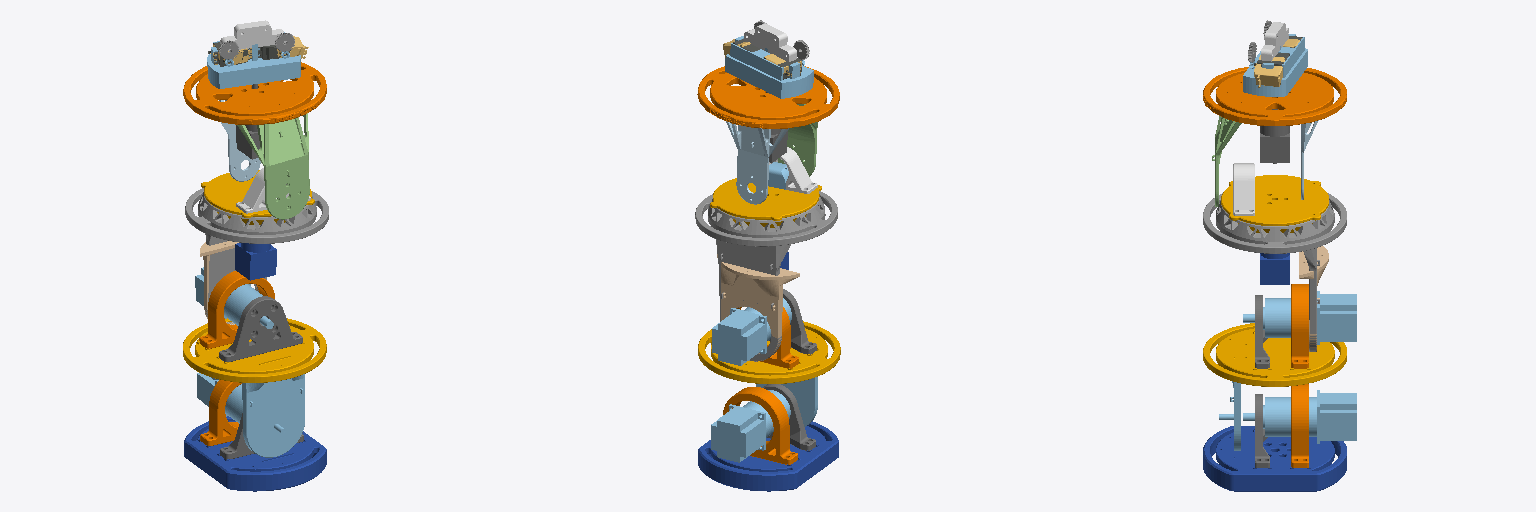
--- What the picture shows (computed from the rendered views, not written in the file) ---
Views: 3 orthographic renders of the robot side by side, from view 1: azimuth 30°, elevation 25°; view 2: azimuth 150°, elevation 25°; view 3: azimuth 270°, elevation 25°.
Robot: robot — 8 links, 7 joints (6 revolute, 1 fixed); root link ob1_arm_fixed_base_link; default pose: every joint at zero.
Links seen in each view (by area): view 1: ob1_arm_shoulder_link, ob1_arm_forearm_link, ob1_arm_base_link, ob1_arm_arm_link, ob1_arm_gripper_base_link, ob1_arm_elbow_link; view 2: ob1_arm_shoulder_link, ob1_arm_base_link, ob1_arm_forearm_link, ob1_arm_arm_link, ob1_arm_gripper_base_link, ob1_arm_elbow_link; view 3: ob1_arm_base_link, ob1_arm_shoulder_link, ob1_arm_forearm_link, ob1_arm_arm_link, ob1_arm_elbow_link, ob1_arm_gripper_base_link.
Boxes of the visible links, x1,y1,x2,y2 form: ob1_arm_shoulder_link: [183, 241, 326, 457]; ob1_arm_forearm_link: [183, 62, 326, 219]; ob1_arm_base_link: [184, 373, 326, 491]; ob1_arm_arm_link: [185, 188, 328, 324]; ob1_arm_gripper_base_link: [207, 20, 308, 88]; ob1_arm_elbow_link: [201, 168, 314, 224]; ob1_arm_shoulder_link: [698, 254, 840, 426]; ob1_arm_base_link: [698, 384, 838, 491]; ob1_arm_forearm_link: [697, 66, 839, 204]; ob1_arm_arm_link: [695, 191, 837, 361]; ob1_arm_gripper_base_link: [723, 20, 813, 98]; ob1_arm_elbow_link: [710, 147, 821, 227]; ob1_arm_base_link: [1203, 384, 1356, 491]; ob1_arm_shoulder_link: [1203, 246, 1356, 450]; ob1_arm_forearm_link: [1203, 67, 1346, 206]; ob1_arm_arm_link: [1203, 193, 1346, 351]; ob1_arm_elbow_link: [1221, 163, 1328, 232]; ob1_arm_gripper_base_link: [1243, 20, 1307, 96].
Size in the robot's own frame: 0.2045 by 0.2135 by 0.6709 metres.
Meshes: 27 distinct files referenced, 31 mesh visuals loaded (26 binary STL); not drawn: 1 (reference not matched to a file when rendering).

The robot description file, URDF, robot "robot":
<?xml version="1.0" ?>
<!-- =================================================================================== -->
<!-- |    This document was autogenerated by xacro from main.xacro                     | -->
<!-- |    EDITING THIS FILE BY HAND IS NOT RECOMMENDED                                 | -->
<!-- =================================================================================== -->
<robot name="robot">
  <link name="ob1_arm_fixed_base_link">
    <inertial>
      <origin rpy="0 0 0" xyz="0 0 0"/>
      <mass value="0"/>
      <inertia ixx="0" ixy="0" ixz="0" iyy="0" iyz="0" izz="0"/>
    </inertial>
  </link>
  <link name="ob1_arm_base_link">
    <visual>
      <origin rpy="-1.5708 1.21431e-16 3.90606e-18" xyz="3.31402e-16 -0.0195 0.06"/>
      <geometry>
        <mesh filename="package://ob1_arm_description/meshes/shoulder_y_motor.stl"/>
      </geometry>
      <material name="shoulder_y_motor_material">
        <color rgba="0.615686 0.811765 0.929412 1.0"/>
      </material>
    </visual>
    <collision>
      <origin rpy="-1.5708 1.21431e-16 3.90606e-18" xyz="3.31402e-16 -0.0195 0.06"/>
      <geometry>
        <mesh filename="package://ob1_arm_description/meshes/shoulder_y_motor.stl"/>
      </geometry>
      <material name="shoulder_y_motor_material">
        <color rgba="0.615686 0.811765 0.929412 1.0"/>
      </material>
    </collision>
    <visual>
      <origin rpy="-1.5708 1.2013e-16 2.92997e-21" xyz="1.33481e-16 -0.0195 0.06"/>
      <geometry>
        <mesh filename="package://ob1_arm_description/meshes/shoulder_plate.stl"/>
      </geometry>
      <material name="shoulder_plate_material">
        <color rgba="0.231373 0.380392 0.705882 1.0"/>
      </material>
    </visual>
    <collision>
      <origin rpy="-1.5708 1.2013e-16 2.92997e-21" xyz="1.33481e-16 -0.0195 0.06"/>
      <geometry>
        <mesh filename="package://ob1_arm_description/meshes/shoulder_plate.stl"/>
      </geometry>
      <material name="shoulder_plate_material">
        <color rgba="0.231373 0.380392 0.705882 1.0"/>
      </material>
    </collision>
    <visual>
      <origin rpy="-1.5708 1.20997e-16 7.25353e-18" xyz="3.46418e-16 -0.0195 0.06"/>
      <geometry>
        <mesh filename="package://ob1_arm_description/meshes/motor_front_support_-_shoulder.stl"/>
      </geometry>
      <material name="motor_front_support_-_shoulder_material">
        <color rgba="0.498039 0.498039 0.498039 1.0"/>
      </material>
    </visual>
    <collision>
      <origin rpy="-1.5708 1.20997e-16 7.25353e-18" xyz="3.46418e-16 -0.0195 0.06"/>
      <geometry>
        <mesh filename="package://ob1_arm_description/meshes/motor_front_support_-_shoulder.stl"/>
      </geometry>
      <material name="motor_front_support_-_shoulder_material">
        <color rgba="0.498039 0.498039 0.498039 1.0"/>
      </material>
    </collision>
    <visual>
      <origin rpy="-1.5708 1.2013e-16 2.92997e-21" xyz="-6.34937e-17 -0.0195 0.06"/>
      <geometry>
        <mesh filename="package://ob1_arm_description/meshes/motor_mid_support_-_shoulder.stl"/>
      </geometry>
      <material name="motor_mid_support_-_shoulder_material">
        <color rgba="0.972549 0.529412 0.00392157 1.0"/>
      </material>
    </visual>
    <collision>
      <origin rpy="-1.5708 1.2013e-16 2.92997e-21" xyz="-6.34937e-17 -0.0195 0.06"/>
      <geometry>
        <mesh filename="package://ob1_arm_description/meshes/motor_mid_support_-_shoulder.stl"/>
      </geometry>
      <material name="motor_mid_support_-_shoulder_material">
        <color rgba="0.972549 0.529412 0.00392157 1.0"/>
      </material>
    </collision>
    <inertial>
      <origin rpy="0 0 0" xyz="0 0 0"/>
      <mass value="0"/>
      <inertia ixx="0" ixy="0" ixz="0" iyy="0" iyz="0" izz="0"/>
    </inertial>
  </link>
  <link name="ob1_arm_shoulder_link">
    <visual>
      <origin rpy="3.14159 -2.02376e-31 3.10097e-18" xyz="-2.59124e-17 0.15 0.067"/>
      <geometry>
        <mesh filename="package://ob1_arm_description/meshes/shoulder_linkage_-_motor.stl"/>
      </geometry>
      <material name="shoulder_linkage_-_motor_material">
        <color rgba="0.921569 0.8 0.654902 1.0"/>
      </material>
    </visual>
    <collision>
      <origin rpy="3.14159 -2.02376e-31 3.10097e-18" xyz="-2.59124e-17 0.15 0.067"/>
      <geometry>
        <mesh filename="package://ob1_arm_description/meshes/shoulder_linkage_-_motor.stl"/>
      </geometry>
      <material name="shoulder_linkage_-_motor_material">
        <color rgba="0.921569 0.8 0.654902 1.0"/>
      </material>
    </collision>
    <visual>
      <origin rpy="-3.14159 6.26309e-30 3.30936e-16" xyz="8.79071e-16 6.245e-16 0.067"/>
      <geometry>
        <mesh filename="package://ob1_arm_description/meshes/bicep_y_motor.stl"/>
      </geometry>
      <material name="bicep_y_motor_material">
        <color rgba="0.615686 0.811765 0.929412 1.0"/>
      </material>
    </visual>
    <collision>
      <origin rpy="-3.14159 6.26309e-30 3.30936e-16" xyz="8.79071e-16 6.245e-16 0.067"/>
      <geometry>
        <mesh filename="package://ob1_arm_description/meshes/bicep_y_motor.stl"/>
      </geometry>
      <material name="bicep_y_motor_material">
        <color rgba="0.615686 0.811765 0.929412 1.0"/>
      </material>
    </collision>
    <visual>
      <origin rpy="-3.14159 1.39936e-30 -2.98503e-17" xyz="1.03715e-15 1.04083e-15 0.067"/>
      <geometry>
        <mesh filename="package://ob1_arm_description/meshes/motor_front_support_-_bicep.stl"/>
      </geometry>
      <material name="motor_front_support_-_bicep_material">
        <color rgba="0.498039 0.498039 0.498039 1.0"/>
      </material>
    </visual>
    <collision>
      <origin rpy="-3.14159 1.39936e-30 -2.98503e-17" xyz="1.03715e-15 1.04083e-15 0.067"/>
      <geometry>
        <mesh filename="package://ob1_arm_description/meshes/motor_front_support_-_bicep.stl"/>
      </geometry>
      <material name="motor_front_support_-_bicep_material">
        <color rgba="0.498039 0.498039 0.498039 1.0"/>
      </material>
    </collision>
    <visual>
      <origin rpy="-3.14159 1.84829e-30 -7.32146e-17" xyz="1.05677e-15 1.06859e-15 0.067"/>
      <geometry>
        <mesh filename="package://ob1_arm_description/meshes/bicep_plate_-_real.stl"/>
      </geometry>
      <material name="bicep_plate_-_real_material">
        <color rgba="0.980392 0.713725 0.00392157 1.0"/>
      </material>
    </visual>
    <collision>
      <origin rpy="-3.14159 1.84829e-30 -7.32146e-17" xyz="1.05677e-15 1.06859e-15 0.067"/>
      <geometry>
        <mesh filename="package://ob1_arm_description/meshes/bicep_plate_-_real.stl"/>
      </geometry>
      <material name="bicep_plate_-_real_material">
        <color rgba="0.980392 0.713725 0.00392157 1.0"/>
      </material>
    </collision>
    <visual>
      <origin rpy="-3.14159 1.97023e-30 1.36668e-16" xyz="9.52797e-16 9.57567e-16 0.067"/>
      <geometry>
        <mesh filename="package://ob1_arm_description/meshes/shoulder_linkage_-_encoder.stl"/>
      </geometry>
      <material name="shoulder_linkage_-_encoder_material">
        <color rgba="0.615686 0.811765 0.929412 1.0"/>
      </material>
    </visual>
    <collision>
      <origin rpy="-3.14159 1.97023e-30 1.36668e-16" xyz="9.52797e-16 9.57567e-16 0.067"/>
      <geometry>
        <mesh filename="package://ob1_arm_description/meshes/shoulder_linkage_-_encoder.stl"/>
      </geometry>
      <material name="shoulder_linkage_-_encoder_material">
        <color rgba="0.615686 0.811765 0.929412 1.0"/>
      </material>
    </collision>
    <visual>
      <origin rpy="-3.14159 2.70566e-31 -7.32146e-17" xyz="1.11651e-15 1.05471e-15 0.067"/>
      <geometry>
        <mesh filename="package://ob1_arm_description/meshes/motor_mid_support_-_bicep.stl"/>
      </geometry>
      <material name="motor_mid_support_-_bicep_material">
        <color rgba="0.972549 0.529412 0.00392157 1.0"/>
      </material>
    </visual>
    <collision>
      <origin rpy="-3.14159 2.70566e-31 -7.32146e-17" xyz="1.11651e-15 1.05471e-15 0.067"/>
      <geometry>
        <mesh filename="package://ob1_arm_description/meshes/motor_mid_support_-_bicep.stl"/>
      </geometry>
      <material name="motor_mid_support_-_bicep_material">
        <color rgba="0.972549 0.529412 0.00392157 1.0"/>
      </material>
    </collision>
    <inertial>
      <origin rpy="0 0 0" xyz="0 0 0"/>
      <mass value="0"/>
      <inertia ixx="0" ixy="0" ixz="0" iyy="0" iyz="0" izz="0"/>
    </inertial>
  </link>
  <link name="ob1_arm_arm_link">
    <visual>
      <origin rpy="-3.14159 0.18918 1.80411e-15" xyz="0.00366704 -1.27676e-15 0.0666521"/>
      <geometry>
        <mesh filename="package://ob1_arm_description/meshes/forearm_z_motor_shaft_collar_-_9604t12_flange-mount_shaft_collar.stl"/>
      </geometry>
      <material name="forearm_z_motor_shaft_collar_-_9604t12_flange-mount_shaft_collar_material">
        <color rgba="0.498039 0.498039 0.498039 1.0"/>
      </material>
    </visual>
    <collision>
      <origin rpy="-3.14159 0.18918 1.80411e-15" xyz="0.00366704 -1.27676e-15 0.0666521"/>
      <geometry>
        <mesh filename="package://ob1_arm_description/meshes/forearm_z_motor_shaft_collar_-_9604t12_flange-mount_shaft_collar.stl"/>
      </geometry>
      <material name="forearm_z_motor_shaft_collar_-_9604t12_flange-mount_shaft_collar_material">
        <color rgba="0.498039 0.498039 0.498039 1.0"/>
      </material>
    </collision>
    <visual>
      <origin rpy="-3.14159 2.13756e-29 -1.6944e-16" xyz="-2.13371e-15 -1.38778e-16 0.067"/>
      <geometry>
        <mesh filename="package://ob1_arm_description/meshes/bicep_z_motor.stl"/>
      </geometry>
      <material name="bicep_z_motor_material">
        <color rgba="0.231373 0.380392 0.705882 1.0"/>
      </material>
    </visual>
    <collision>
      <origin rpy="-3.14159 2.13756e-29 -1.6944e-16" xyz="-2.13371e-15 -1.38778e-16 0.067"/>
      <geometry>
        <mesh filename="package://ob1_arm_description/meshes/bicep_z_motor.stl"/>
      </geometry>
      <material name="bicep_z_motor_material">
        <color rgba="0.231373 0.380392 0.705882 1.0"/>
      </material>
    </collision>
    <visual>
      <origin rpy="-3.14159 2.13756e-29 -1.6944e-16" xyz="-2.12851e-15 8.04912e-16 0.067"/>
      <geometry>
        <mesh filename="package://ob1_arm_description/meshes/bicep_linkage_-_encoder.stl"/>
      </geometry>
      <material name="bicep_linkage_-_encoder_material">
        <color rgba="0.768627 0.886275 0.952941 1.0"/>
      </material>
    </visual>
    <collision>
      <origin rpy="-3.14159 2.13756e-29 -1.6944e-16" xyz="-2.12851e-15 8.04912e-16 0.067"/>
      <geometry>
        <mesh filename="package://ob1_arm_description/meshes/bicep_linkage_-_encoder.stl"/>
      </geometry>
      <material name="bicep_linkage_-_encoder_material">
        <color rgba="0.768627 0.886275 0.952941 1.0"/>
      </material>
    </collision>
    <visual>
      <origin rpy="-3.14159 -8.22245e-32 -2.84672e-18" xyz="1.73472e-18 -2.77556e-17 0.067"/>
      <geometry>
        <mesh filename="package://ob1_arm_description/meshes/bicep_linkage_-_motor.stl"/>
      </geometry>
      <material name="bicep_linkage_-_motor_material">
        <color rgba="0.647059 0.647059 0.647059 1.0"/>
      </material>
    </visual>
    <collision>
      <origin rpy="-3.14159 -8.22245e-32 -2.84672e-18" xyz="1.73472e-18 -2.77556e-17 0.067"/>
      <geometry>
        <mesh filename="package://ob1_arm_description/meshes/bicep_linkage_-_motor.stl"/>
      </geometry>
      <material name="bicep_linkage_-_motor_material">
        <color rgba="0.647059 0.647059 0.647059 1.0"/>
      </material>
    </collision>
    <visual>
      <origin rpy="-3.14159 3.58504e-30 -7.91075e-17" xyz="-2.0834e-15 2.02616e-15 0.067"/>
      <geometry>
        <mesh filename="package://ob1_arm_description/meshes/forearm_plate.stl"/>
      </geometry>
      <material name="forearm_plate_material">
        <color rgba="0.647059 0.647059 0.647059 1.0"/>
      </material>
    </visual>
    <collision>
      <origin rpy="-3.14159 3.58504e-30 -7.91075e-17" xyz="-2.0834e-15 2.02616e-15 0.067"/>
      <geometry>
        <mesh filename="package://ob1_arm_description/meshes/forearm_plate.stl"/>
      </geometry>
      <material name="forearm_plate_material">
        <color rgba="0.647059 0.647059 0.647059 1.0"/>
      </material>
    </collision>
    <inertial>
      <origin rpy="0 0 0" xyz="0 0 0"/>
      <mass value="0"/>
      <inertia ixx="0" ixy="0" ixz="0" iyy="0" iyz="0" izz="0"/>
    </inertial>
  </link>
  <link name="ob1_arm_elbow_link">
    <visual>
      <origin rpy="1.5708 2.04915e-16 7.13982e-16" xyz="-1.14492e-16 0.0195 0.18"/>
      <geometry>
        <mesh filename="package://ob1_arm_description/meshes/forearm_motor_support.stl"/>
      </geometry>
      <material name="forearm_motor_support_material">
        <color rgba="0.917647 0.917647 0.917647 1.0"/>
      </material>
    </visual>
    <collision>
      <origin rpy="1.5708 2.04915e-16 7.13982e-16" xyz="-1.14492e-16 0.0195 0.18"/>
      <geometry>
        <mesh filename="package://ob1_arm_description/meshes/forearm_motor_support.stl"/>
      </geometry>
      <material name="forearm_motor_support_material">
        <color rgba="0.917647 0.917647 0.917647 1.0"/>
      </material>
    </collision>
    <visual>
      <origin rpy="1.5708 4.02585e-18 2.26158e-19" xyz="-1.56125e-17 0.0195 0.18"/>
      <geometry>
        <mesh filename="package://ob1_arm_description/meshes/forearm_intermediate_plate.stl"/>
      </geometry>
      <material name="forearm_intermediate_plate_material">
        <color rgba="0.980392 0.713725 0.00392157 1.0"/>
      </material>
    </visual>
    <collision>
      <origin rpy="1.5708 4.02585e-18 2.26158e-19" xyz="-1.56125e-17 0.0195 0.18"/>
      <geometry>
        <mesh filename="package://ob1_arm_description/meshes/forearm_intermediate_plate.stl"/>
      </geometry>
      <material name="forearm_intermediate_plate_material">
        <color rgba="0.980392 0.713725 0.00392157 1.0"/>
      </material>
    </collision>
    <visual>
      <origin rpy="1.5708 1.05794e-15 1.82583e-15" xyz="7.32053e-16 0.05285 -0.03115"/>
      <geometry>
        <mesh filename="package://ob1_arm_description/meshes/part_1.stl"/>
      </geometry>
      <material name="part_1_material">
        <color rgba="0.615686 0.811765 0.929412 1.0"/>
      </material>
    </visual>
    <collision>
      <origin rpy="1.5708 1.05794e-15 1.82583e-15" xyz="7.32053e-16 0.05285 -0.03115"/>
      <geometry>
        <mesh filename="package://ob1_arm_description/meshes/part_1.stl"/>
      </geometry>
      <material name="part_1_material">
        <color rgba="0.615686 0.811765 0.929412 1.0"/>
      </material>
    </collision>
    <inertial>
      <origin rpy="0 0 0" xyz="0 0 0"/>
      <mass value="0"/>
      <inertia ixx="0" ixy="0" ixz="0" iyy="0" iyz="0" izz="0"/>
    </inertial>
  </link>
  <link name="ob1_arm_forearm_link">
    <visual>
      <origin rpy="1.44226e-20 3.73615e-17 2.30593e-17" xyz="-1.43635e-15 0.21115 0.06335"/>
      <geometry>
        <mesh filename="package://ob1_arm_description/meshes/end_effector_plate.stl"/>
      </geometry>
      <material name="end_effector_plate_material">
        <color rgba="0.972549 0.529412 0.00392157 1.0"/>
      </material>
    </visual>
    <collision>
      <origin rpy="1.44226e-20 3.73615e-17 2.30593e-17" xyz="-1.43635e-15 0.21115 0.06335"/>
      <geometry>
        <mesh filename="package://ob1_arm_description/meshes/end_effector_plate.stl"/>
      </geometry>
      <material name="end_effector_plate_material">
        <color rgba="0.972549 0.529412 0.00392157 1.0"/>
      </material>
    </collision>
    <visual>
      <origin rpy="-1.61808e-19 9.63599e-17 2.17225e-16" xyz="1.5786e-15 0.21115 0.06335"/>
      <geometry>
        <mesh filename="package://ob1_arm_description/meshes/forearm_linkage_-_encoder.stl"/>
      </geometry>
      <material name="forearm_linkage_-_encoder_material">
        <color rgba="0.768627 0.886275 0.952941 1.0"/>
      </material>
    </visual>
    <collision>
      <origin rpy="-1.61808e-19 9.63599e-17 2.17225e-16" xyz="1.5786e-15 0.21115 0.06335"/>
      <geometry>
        <mesh filename="package://ob1_arm_description/meshes/forearm_linkage_-_encoder.stl"/>
      </geometry>
      <material name="forearm_linkage_-_encoder_material">
        <color rgba="0.768627 0.886275 0.952941 1.0"/>
      </material>
    </collision>
    <visual>
      <origin rpy="2.64017e-20 6.23759e-20 2.25943e-18" xyz="-1.04083e-17 0.21115 0.06335"/>
      <geometry>
        <mesh filename="package://ob1_arm_description/meshes/forearm_linkage_-_motor.stl"/>
      </geometry>
      <material name="forearm_linkage_-_motor_material">
        <color rgba="0.654902 0.823529 0.576471 1.0"/>
      </material>
    </visual>
    <collision>
      <origin rpy="2.64017e-20 6.23759e-20 2.25943e-18" xyz="-1.04083e-17 0.21115 0.06335"/>
      <geometry>
        <mesh filename="package://ob1_arm_description/meshes/forearm_linkage_-_motor.stl"/>
      </geometry>
      <material name="forearm_linkage_-_motor_material">
        <color rgba="0.654902 0.823529 0.576471 1.0"/>
      </material>
    </collision>
    <visual>
      <origin rpy="-2.34386e-19 3.24406e-16 6.50284e-17" xyz="4.17721e-15 0.21115 0.06335"/>
      <geometry>
        <mesh filename="package://ob1_arm_description/meshes/wrist_z_motor.stl"/>
      </geometry>
      <material name="wrist_z_motor_material">
        <color rgba="0.498039 0.498039 0.498039 1.0"/>
      </material>
    </visual>
    <collision>
      <origin rpy="-2.34386e-19 3.24406e-16 6.50284e-17" xyz="4.17721e-15 0.21115 0.06335"/>
      <geometry>
        <mesh filename="package://ob1_arm_description/meshes/wrist_z_motor.stl"/>
      </geometry>
      <material name="wrist_z_motor_material">
        <color rgba="0.498039 0.498039 0.498039 1.0"/>
      </material>
    </collision>
    <inertial>
      <origin rpy="0 0 0" xyz="0 0 0"/>
      <mass value="0"/>
      <inertia ixx="0" ixy="0" ixz="0" iyy="0" iyz="0" izz="0"/>
    </inertial>
  </link>
  <joint name="ob1_arm_elbow_forearm_joint" type="revolute">
    <origin rpy="1.5708 0.0729385 1.34977e-15" xyz="7.71952e-16 0.08285 -0.03115"/>
    <parent link="ob1_arm_elbow_link"/>
    <child link="ob1_arm_forearm_link"/>
    <axis xyz="0 0 1"/>
    <limit effort="1" lower="-1.5787" upper="1.5787" velocity="20"/>
    <joint_properties friction="0.0"/>
    <dynamics D="1" K="7000" damping="0.003" friction="0.0" mu_coulomb="0" mu_viscous="16"/>
  </joint>
  <joint name="ob1_arm_arm_elbow_joint" type="revolute">
    <origin rpy="1.5708 0.00373826 -5.38613e-15" xyz="-1.33227e-15 0.18 0.0475"/>
    <parent link="ob1_arm_arm_link"/>
    <child link="ob1_arm_elbow_link"/>
    <axis xyz="0 0 1"/>
    <limit effort="1" lower="-3.14" upper="3.14" velocity="20"/>
    <joint_properties friction="0.0"/>
    <dynamics D="1" K="7000" damping="0.003" friction="0.0" mu_coulomb="0" mu_viscous="16"/>
  </joint>
  <joint name="ob1_arm_shoulder_arm_joint" type="revolute">
    <origin rpy="8.20328e-16 -1.37552e-14 -0.046259" xyz="2.90241e-16 0.15 -7.97973e-16"/>
    <parent link="ob1_arm_shoulder_link"/>
    <child link="ob1_arm_arm_link"/>
    <axis xyz="0 0 1"/>
    <limit effort="1" lower="-1.5787" upper="1.5787" velocity="20"/>
    <joint_properties friction="0.0"/>
    <dynamics D="1" K="7000" damping="0.003" friction="0.0" mu_coulomb="0" mu_viscous="16"/>
  </joint>
  <joint name="ob1_arm_base_shoulder_joint" type="revolute">
    <origin rpy="1.5708 -0.0134839 4.87562e-15" xyz="8.1532e-17 0.0475 0.06"/>
    <parent link="ob1_arm_base_link"/>
    <child link="ob1_arm_shoulder_link"/>
    <axis xyz="0 0 1"/>
    <limit effort="1" lower="-1.5787" upper="1.5787" velocity="20"/>
    <joint_properties friction="0.0"/>
    <dynamics D="1" K="7000" damping="0.003" friction="0.0" mu_coulomb="0" mu_viscous="16"/>
  </joint>
  <joint name="ob1_arm_fixed_base_joint" type="revolute">
    <origin rpy="0 0 0" xyz="0 0 0"/>
    <parent link="ob1_arm_fixed_base_link"/>
    <child link="ob1_arm_base_link"/>
    <axis xyz="0 0 1"/>
    <limit effort="1" lower="-3.14" upper="3.14" velocity="20"/>
    <joint_properties friction="0.0"/>
    <dynamics D="1" K="7000" damping="0.003" friction="0.0" mu_coulomb="0" mu_viscous="16"/>
  </joint>
  <link name="ob1_arm_gripper_base_link">
    <visual>
      <origin rpy="-1.31921 -1.52407 -0.251324" xyz="-0.04015 0.0144875 -0.0347028"/>
      <geometry>
        <mesh filename="package://ob1_arm_description/meshes/hk15328d_v5.stl"/>
      </geometry>
      <material name="hk15328d_v5_material">
        <color rgba="0.952941 0.796078 0.486275 1.0"/>
      </material>
    </visual>
    <collision>
      <origin rpy="-1.31921 -1.52407 -0.251324" xyz="-0.04015 0.0144875 -0.0347028"/>
      <geometry>
        <mesh filename="package://ob1_arm_description/meshes/hk15328d_v5.stl"/>
      </geometry>
      <material name="hk15328d_v5_material">
        <color rgba="0.952941 0.796078 0.486275 1.0"/>
      </material>
    </collision>
    <visual>
      <origin rpy="0.251587 -1.52407 -0.251324" xyz="-0.04015 0.0239869 -0.0345924"/>
      <geometry>
        <mesh filename="package://ob1_arm_description/meshes/spur_gear_(16_teeth).stl"/>
      </geometry>
      <material name="spur_gear_(16_teeth)_material">
        <color rgba="0.615686 0.811765 0.929412 1.0"/>
      </material>
    </visual>
    <collision>
      <origin rpy="0.251587 -1.52407 -0.251324" xyz="-0.04015 0.0239869 -0.0345924"/>
      <geometry>
        <mesh filename="package://ob1_arm_description/meshes/spur_gear_(16_teeth).stl"/>
      </geometry>
      <material name="spur_gear_(16_teeth)_material">
        <color rgba="0.615686 0.811765 0.929412 1.0"/>
      </material>
    </collision>
    <visual>
      <origin rpy="-3.14159 -0.174533 4.4254e-17" xyz="-0.04 0.019 -0.0535151"/>
      <geometry>
        <mesh filename="package://ob1_arm_description/meshes/spur_gear_(36_teeth).stl"/>
      </geometry>
      <material name="spur_gear_(36_teeth)_material">
        <color rgba="0.647059 0.647059 0.647059 1.0"/>
      </material>
    </visual>
    <collision>
      <origin rpy="-3.14159 -0.174533 4.4254e-17" xyz="-0.04 0.019 -0.0535151"/>
      <geometry>
        <mesh filename="package://ob1_arm_description/meshes/spur_gear_(36_teeth).stl"/>
      </geometry>
      <material name="spur_gear_(36_teeth)_material">
        <color rgba="0.647059 0.647059 0.647059 1.0"/>
      </material>
    </collision>
    <visual>
      <origin rpy="-3.14159 1.01857e-14 5.54818e-17" xyz="6.93889e-18 -8.67362e-19 -1.77636e-15"/>
      <geometry>
        <mesh filename="package://ob1_arm_description/meshes/part_2_gripper.stl"/>
      </geometry>
      <material name="part_2_gripper_material">
        <color rgba="0.917647 0.917647 0.917647 1.0"/>
      </material>
    </visual>
    <collision>
      <origin rpy="-3.14159 1.01857e-14 5.54818e-17" xyz="6.93889e-18 -8.67362e-19 -1.77636e-15"/>
      <geometry>
        <mesh filename="package://ob1_arm_description/meshes/part_2_gripper.stl"/>
      </geometry>
      <material name="part_2_gripper_material">
        <color rgba="0.917647 0.917647 0.917647 1.0"/>
      </material>
    </collision>
    <visual>
      <origin rpy="3.10536 -1.244 -3.10728" xyz="0.04015 0.0239869 -0.0345924"/>
      <geometry>
        <mesh filename="package://ob1_arm_description/meshes/spur_gear_(16_teeth).stl"/>
      </geometry>
      <material name="spur_gear_(16_teeth)_material">
        <color rgba="0.615686 0.811765 0.929412 1.0"/>
      </material>
    </visual>
    <collision>
      <origin rpy="3.10536 -1.244 -3.10728" xyz="0.04015 0.0239869 -0.0345924"/>
      <geometry>
        <mesh filename="package://ob1_arm_description/meshes/spur_gear_(16_teeth).stl"/>
      </geometry>
      <material name="spur_gear_(16_teeth)_material">
        <color rgba="0.615686 0.811765 0.929412 1.0"/>
      </material>
    </collision>
    <visual>
      <origin rpy="1.10827e-14 1.0192e-14 1.02561e-16" xyz="0.04 0.024 -0.0535151"/>
      <geometry>
        <mesh filename="package://ob1_arm_description/meshes/spur_gear_(36_teeth).stl"/>
      </geometry>
      <material name="spur_gear_(36_teeth)_material">
        <color rgba="0.647059 0.647059 0.647059 1.0"/>
      </material>
    </visual>
    <collision>
      <origin rpy="1.10827e-14 1.0192e-14 1.02561e-16" xyz="0.04 0.024 -0.0535151"/>
      <geometry>
        <mesh filename="package://ob1_arm_description/meshes/spur_gear_(36_teeth).stl"/>
      </geometry>
      <material name="spur_gear_(36_teeth)_material">
        <color rgba="0.647059 0.647059 0.647059 1.0"/>
      </material>
    </collision>
    <visual>
      <origin rpy="1.53457 -1.244 -3.10728" xyz="0.04015 0.0144875 -0.0347028"/>
      <geometry>
        <mesh filename="package://ob1_arm_description/meshes/hk15328d_v5.stl"/>
      </geometry>
      <material name="hk15328d_v5_material">
        <color rgba="0.952941 0.796078 0.486275 1.0"/>
      </material>
    </visual>
    <collision>
      <origin rpy="1.53457 -1.244 -3.10728" xyz="0.04015 0.0144875 -0.0347028"/>
      <geometry>
        <mesh filename="package://ob1_arm_description/meshes/hk15328d_v5.stl"/>
      </geometry>
      <material name="hk15328d_v5_material">
        <color rgba="0.952941 0.796078 0.486275 1.0"/>
      </material>
    </collision>
    <visual>
      <origin rpy="8.11517e-13 1.55917 1.5708" xyz="0.04015 0.0144875 -0.0347028"/>
      <geometry>
        <mesh filename="package://ob1_arm_description/meshes/hk15328d_v5.stl"/>
      </geometry>
      <material name="hk15328d_v5_material">
        <color rgba="0.392157 0.403922 0.384314 1.0"/>
      </material>
    </visual>
    <collision>
      <origin rpy="8.11517e-13 1.55917 1.5708" xyz="0.04015 0.0144875 -0.0347028"/>
      <geometry>
        <mesh filename="package://ob1_arm_description/meshes/hk15328d_v5.stl"/>
      </geometry>
      <material name="hk15328d_v5_material">
        <color rgba="0.392157 0.403922 0.384314 1.0"/>
      </material>
    </collision>
    <visual>
      <origin rpy="-1.23792e-12 -1.55917 -1.5708" xyz="-0.04015 0.0144875 -0.0347028"/>
      <geometry>
        <mesh filename="package://ob1_arm_description/meshes/hk15328d_v5.stl"/>
      </geometry>
      <material name="hk15328d_v5_material">
        <color rgba="0.392157 0.403922 0.384314 1.0"/>
      </material>
    </visual>
    <collision>
      <origin rpy="-1.23792e-12 -1.55917 -1.5708" xyz="-0.04015 0.0144875 -0.0347028"/>
      <geometry>
        <mesh filename="package://ob1_arm_description/meshes/hk15328d_v5.stl"/>
      </geometry>
      <material name="hk15328d_v5_material">
        <color rgba="0.392157 0.403922 0.384314 1.0"/>
      </material>
    </collision>
    <visual>
      <origin rpy="3.14159 -6.62591e-19 -1.44439e-17" xyz="3.46945e-18 -8.67362e-19 -1.11022e-16"/>
      <geometry>
        <mesh filename="package://ob1_arm_description/meshes/part_1_gripper.stl"/>
      </geometry>
      <material name="part_1_gripper_material">
        <color rgba="0.615686 0.811765 0.929412 1.0"/>
      </material>
    </visual>
    <collision>
      <origin rpy="3.14159 -6.62591e-19 -1.44439e-17" xyz="3.46945e-18 -8.67362e-19 -1.11022e-16"/>
      <geometry>
        <mesh filename="package://ob1_arm_description/meshes/part_1_gripper.stl"/>
      </geometry>
      <material name="part_1_gripper_material">
        <color rgba="0.615686 0.811765 0.929412 1.0"/>
      </material>
    </collision>
    <inertial>
      <origin rpy="0 0 0" xyz="0 0 0"/>
      <mass value="0"/>
      <inertia ixx="0" ixy="0" ixz="0" iyy="0" iyz="0" izz="0"/>
    </inertial>
  </link>

  <link name="ob1_arm_eef_link">
    <inertial>
      <origin rpy="0 0 0" xyz="0 0 0"/>
      <mass value="0"/>
      <inertia ixx="0" ixy="0" ixz="0" iyy="0" iyz="0" izz="0"/>
    </inertial>
  </link>
  <joint name="ob1_arm_gripper_eef_joint" type="fixed">
    <origin rpy="0 0 0" xyz="0 0 -0.11"/>
    <parent link="ob1_arm_gripper_base_link"/>
    <child link="ob1_arm_eef_link"/>
  </joint>
  <!-- arm - gripper joint -->
  <joint name="ob1_arm_forearm_gripper_joint" type="revolute">
    <origin rpy="-1.5708 0.278795 3.7292e-15" xyz="-2.46331e-16 -0.155 0.08285"/>
    <parent link="ob1_arm_forearm_link"/>
    <child link="ob1_arm_gripper_base_link"/>
    <axis xyz="0 0 1"/>
    <limit effort="1" lower="-3.14" upper="3.14" velocity="20"/>
    <joint_properties friction="0.0"/>
    <dynamics D="1" K="7000" damping="0.003" friction="0.0" mu_coulomb="0" mu_viscous="16"/>
  </joint>
</robot>
